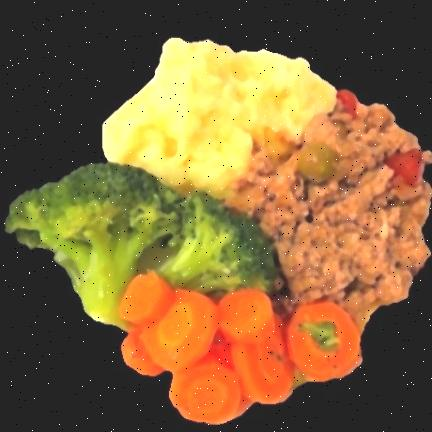broccoli: (5, 162, 277, 329)
carrot: (120, 273, 360, 424)
meat: (228, 100, 431, 330)
potato: (103, 39, 336, 198)
